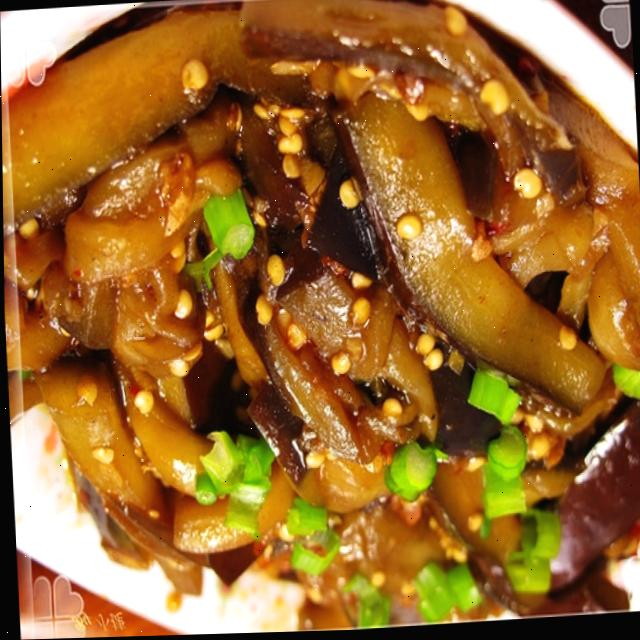鸡蛋料理: (22, 0, 640, 631)
